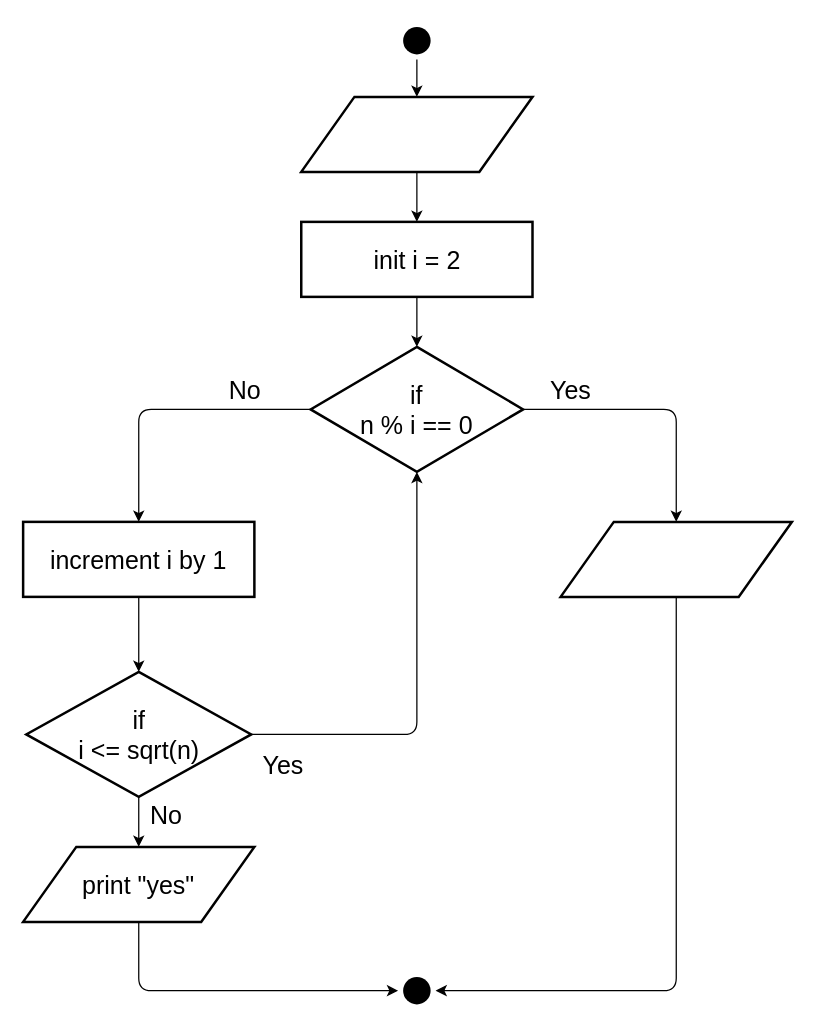
Image size: 814x1030. Some labels were removed from this diagram. Each missing label, with the box of its shape:
print "no": (559, 520, 792, 598)
take n: (299, 95, 533, 172)
